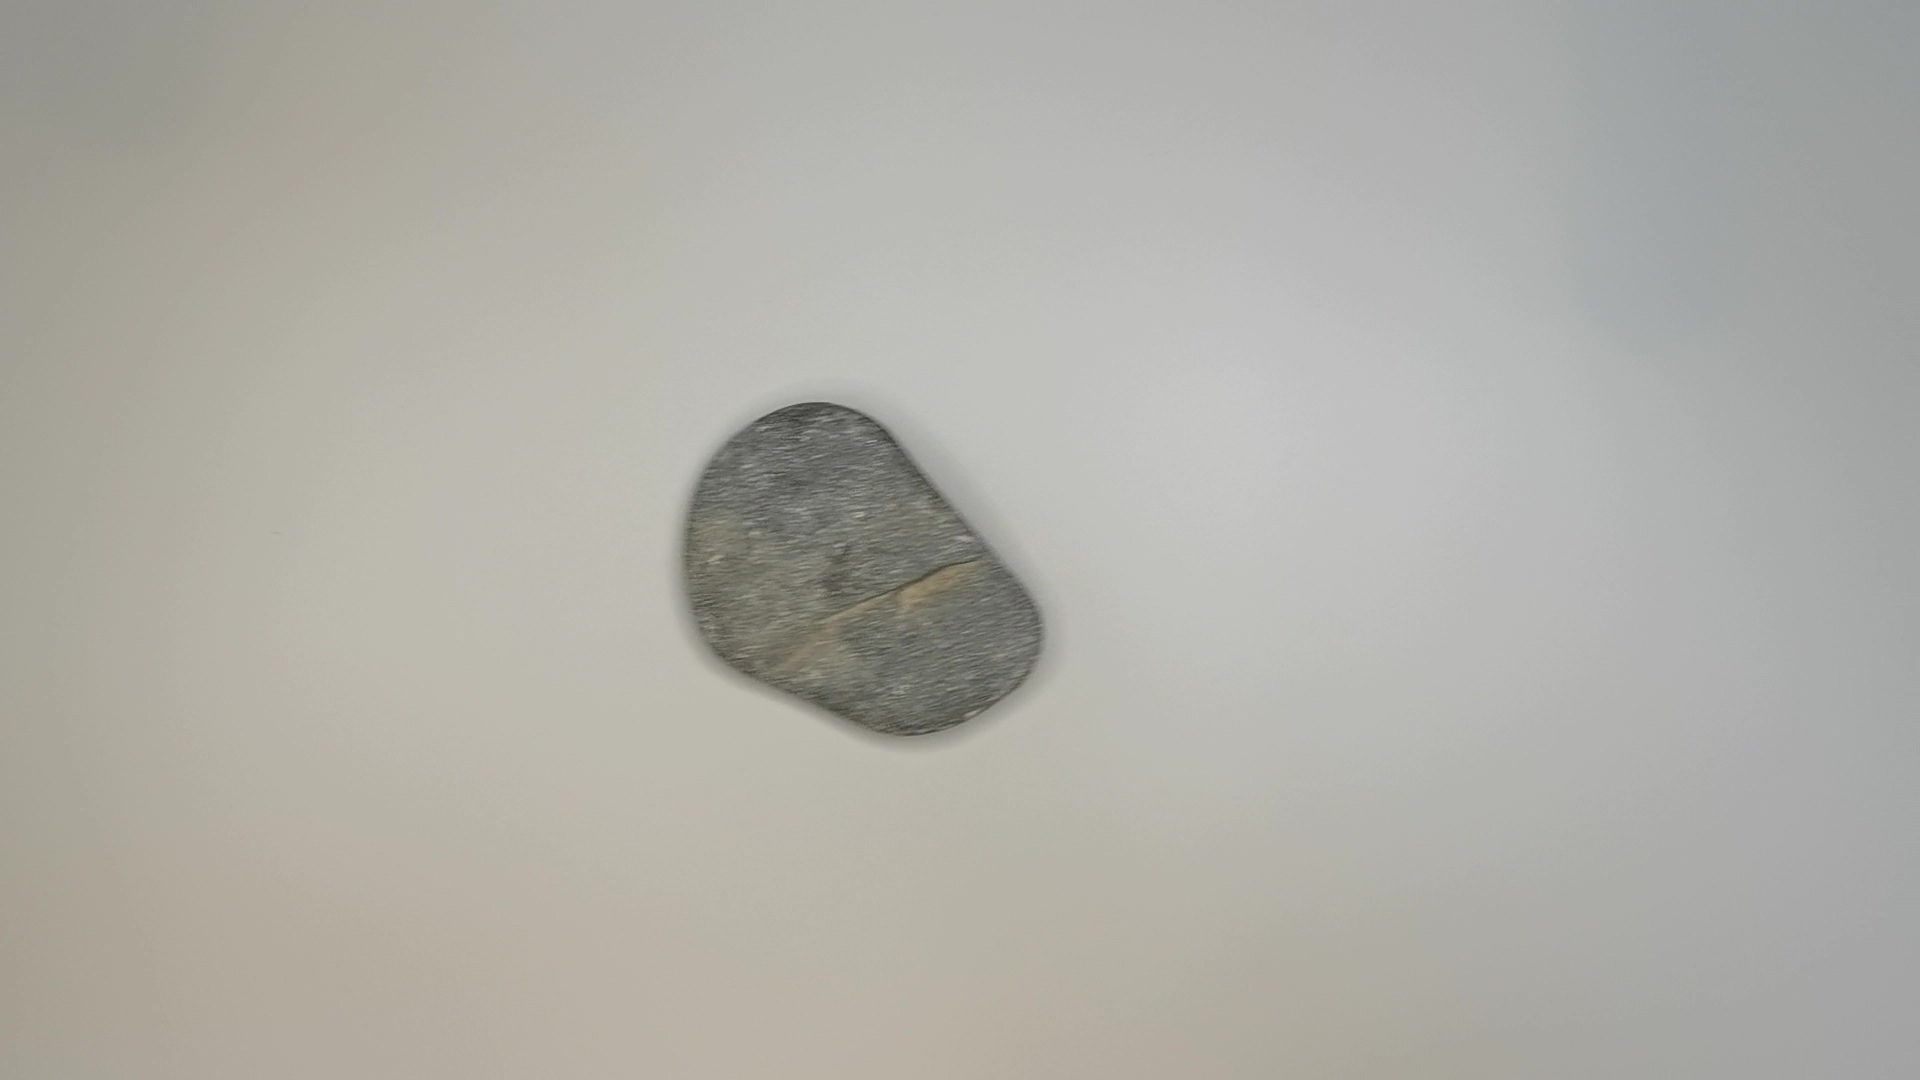ceramic: (674, 393, 1048, 745)
